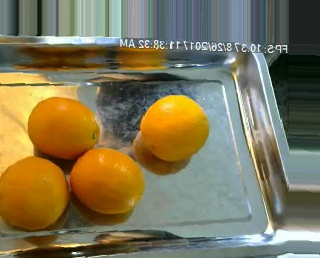Orange: (24, 97, 100, 166), (1, 155, 69, 231), (69, 147, 145, 214), (140, 93, 211, 162)
